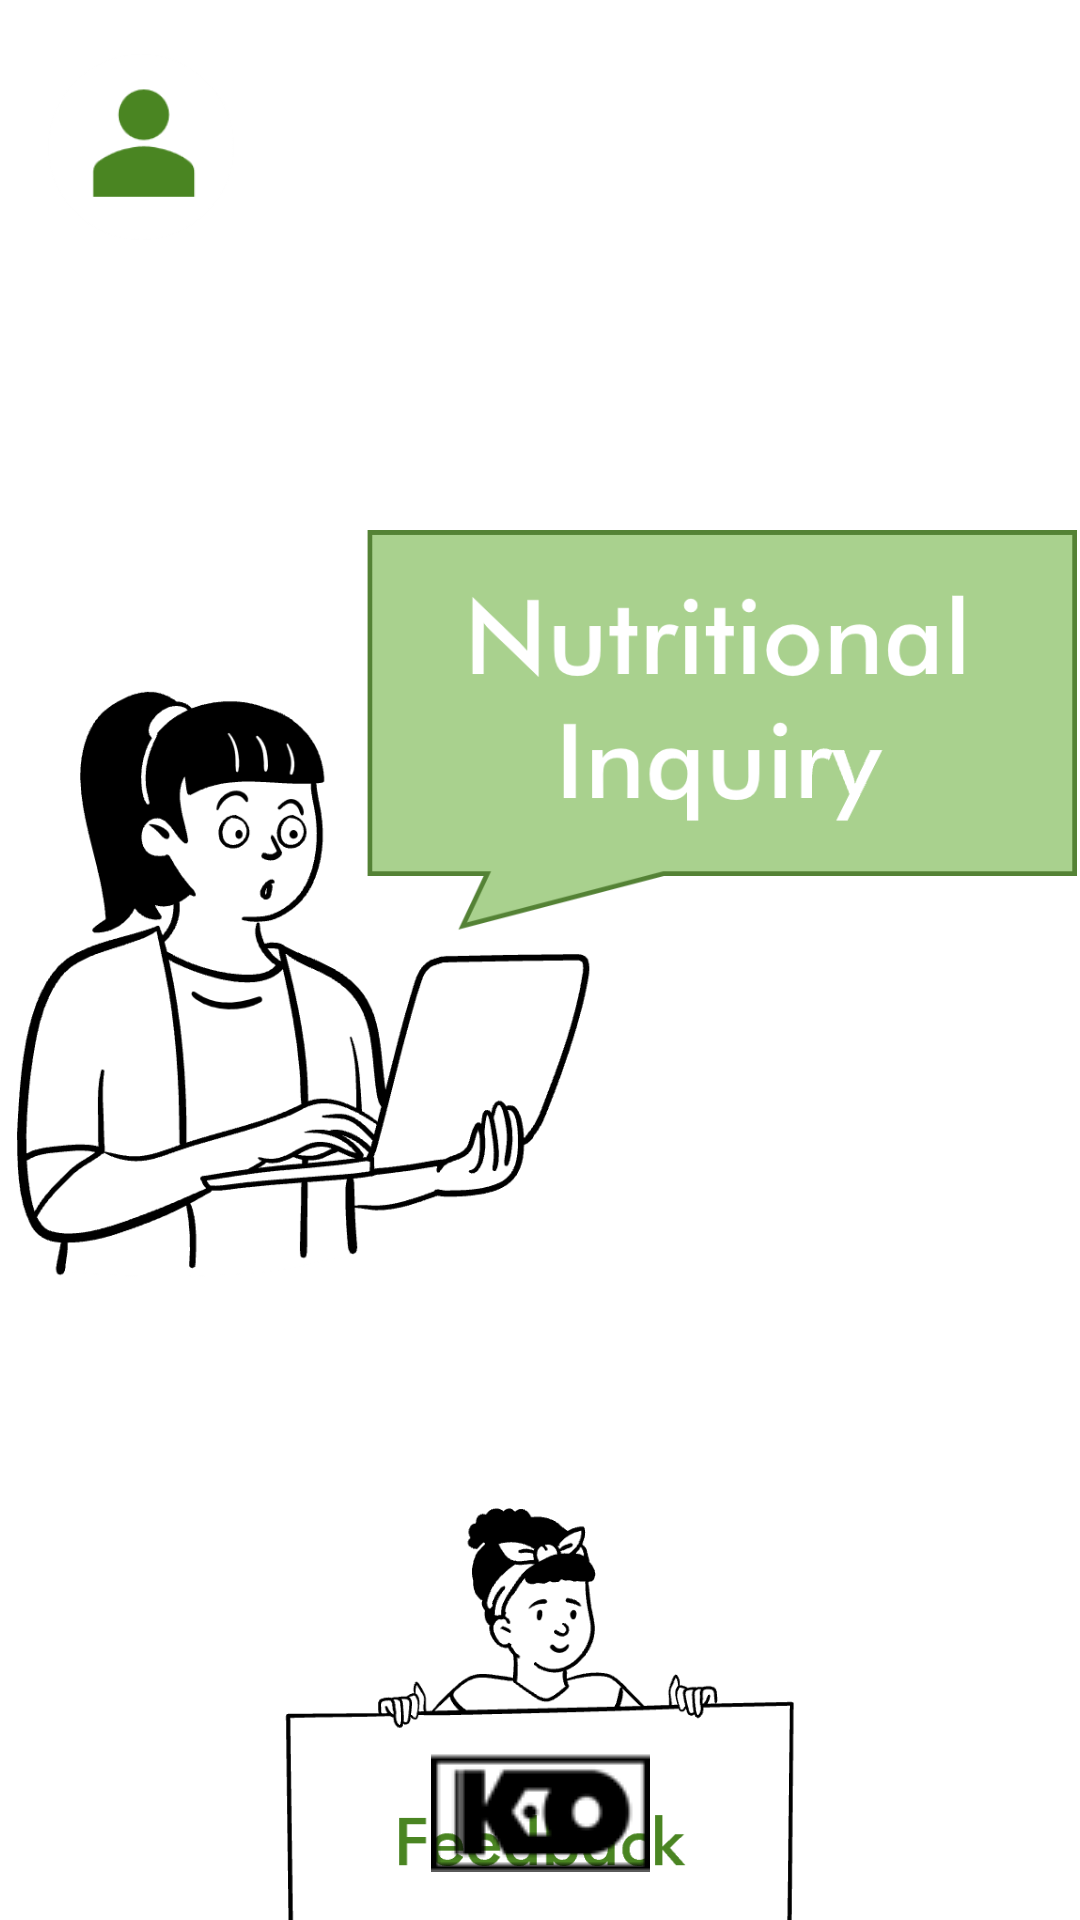

Screen size 1080w x 1920h. Icon name, then its box in pixels as bbox=(x1, y1, x2, y2):
accountbutton: bbox=(93, 89, 195, 197)
